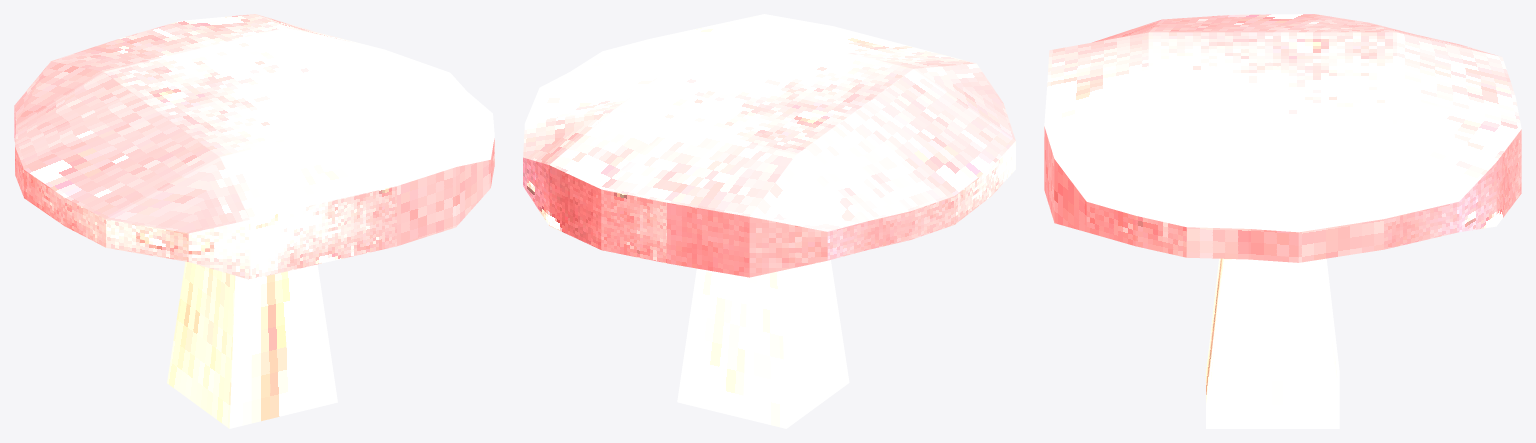
File: mantar.glb
3 views of the same model, side by side, from view 1: azimuth 30°, elevation 25°; view 2: azimuth 150°, elevation 25°; view 3: azimuth 270°, elevation 25° (orthographic). The views are drawn at different scales.
Visible parts, largest first — view 1: mantar; view 2: mantar; view 3: mantar.
Boxes of the visible parts, x1,y1,x2,y2 form: mantar: (14, 14, 494, 428); mantar: (523, 14, 1015, 428); mantar: (1044, 14, 1521, 428).
Size of the model in its own units: 1.13 by 0.7727 by 1.04.
